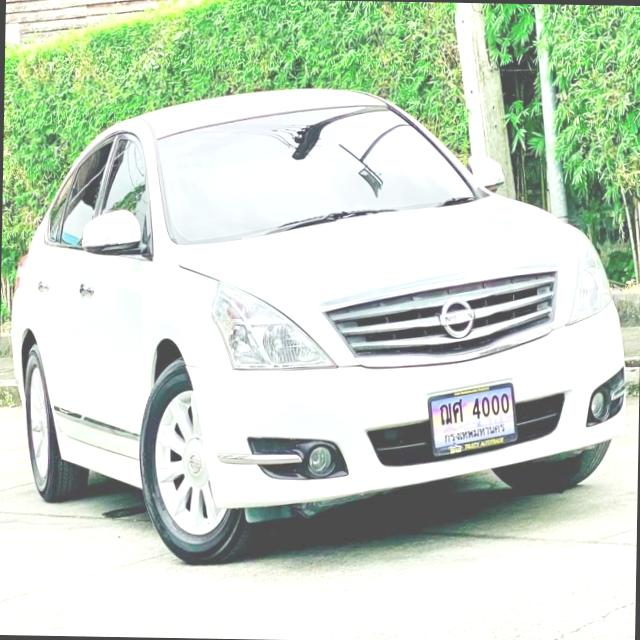license_plate: (426, 376, 520, 461)
